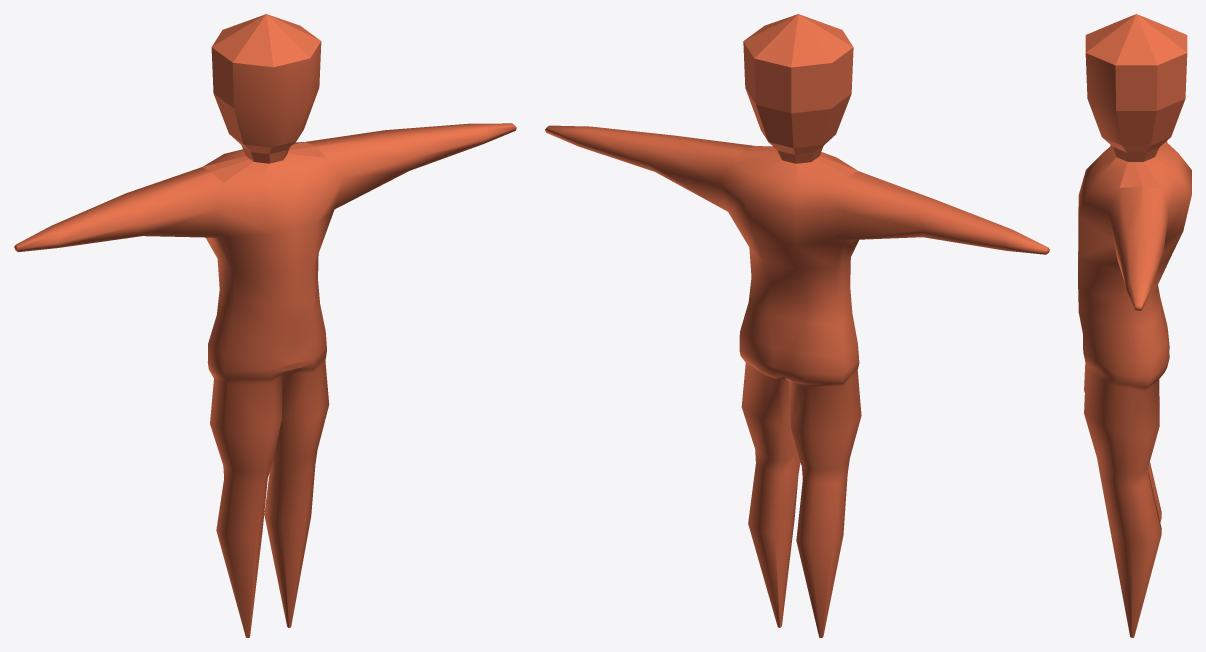
Rendered from octoboy.glb.
The picture shows the model from 3 angles, left to right: view 1: azimuth 30°, elevation 25°; view 2: azimuth 150°, elevation 25°; view 3: azimuth 270°, elevation 25°; orthographic projection.
Visible parts, largest first — view 1: boy; view 2: boy; view 3: boy.
Boxes of the visible parts, <box> form: boy: <box>14,14,516,637</box>; boy: <box>545,14,1049,637</box>; boy: <box>1078,14,1191,637</box>.
Bounding box in the file's own units: 1.59 × 1.88 × 0.3163.
